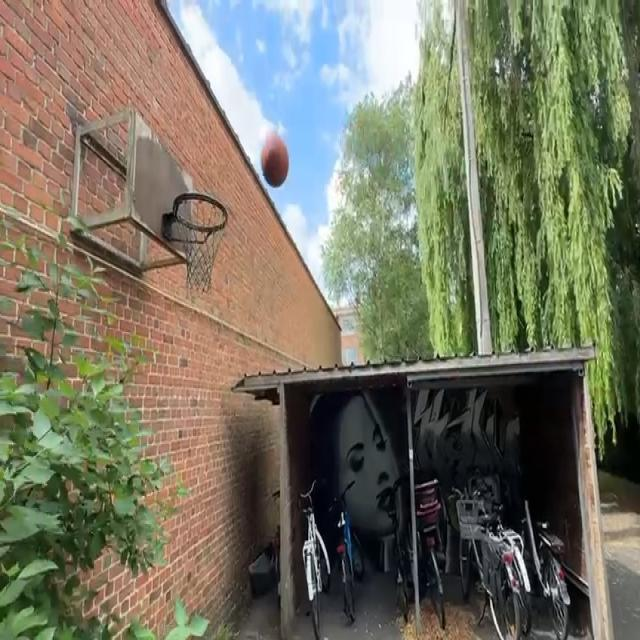Basketball: (262, 134, 290, 187)
